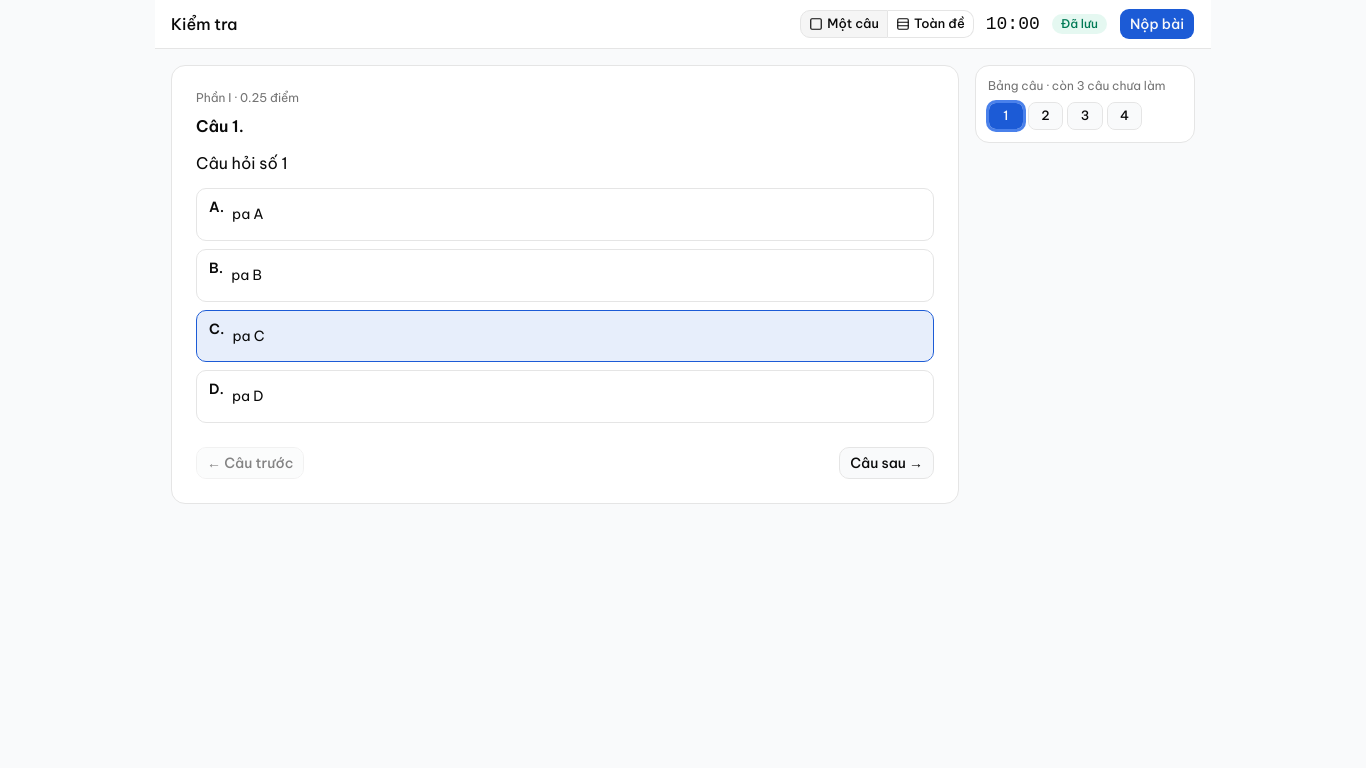
it: exam runner › answers any question of the whole paper and the navigator follows (AC-03)
This screenshot has width=1366, height=768.
Click the radio button labelled "Toàn đề". click: point(931, 24)
box: [888,10,974,38]
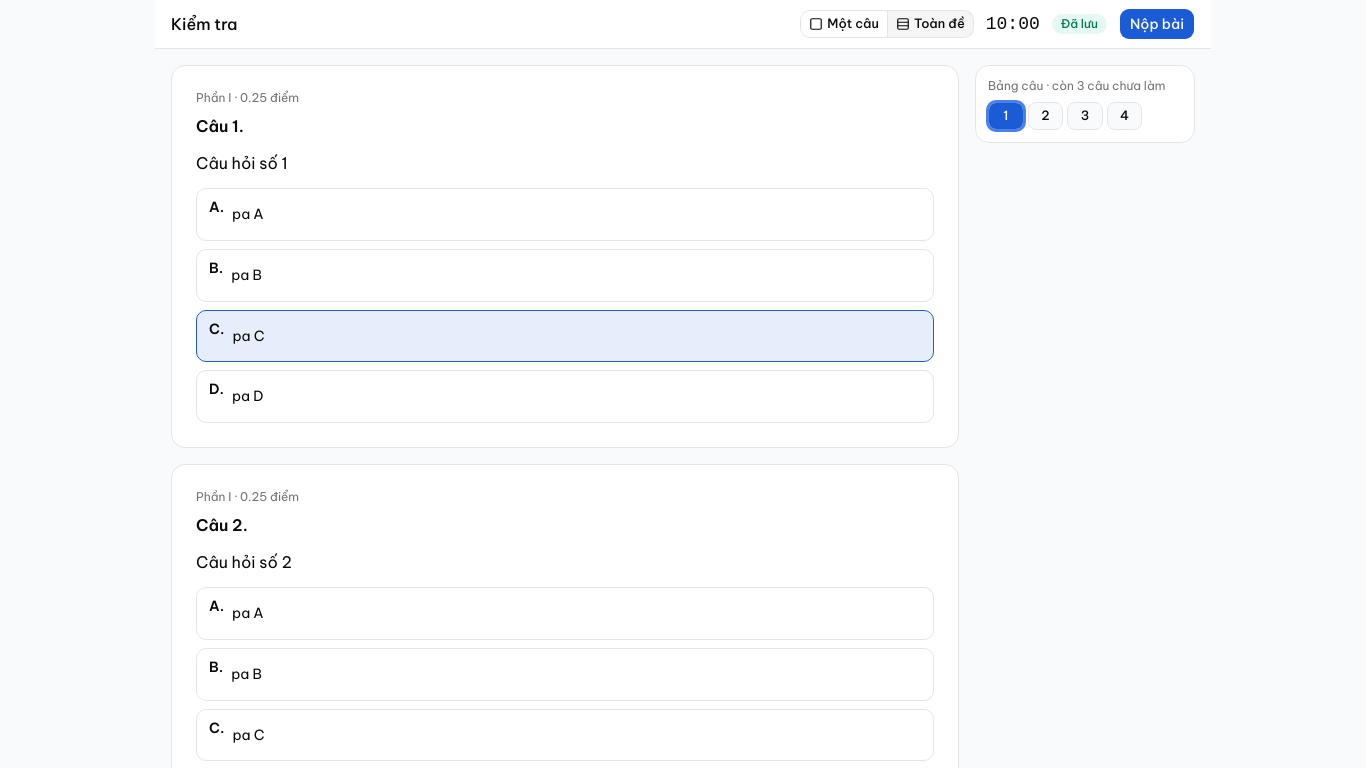
Click the button with test id "option-B". click: point(247, 674)
box: [196,648,934,701]
Wait 600 ms
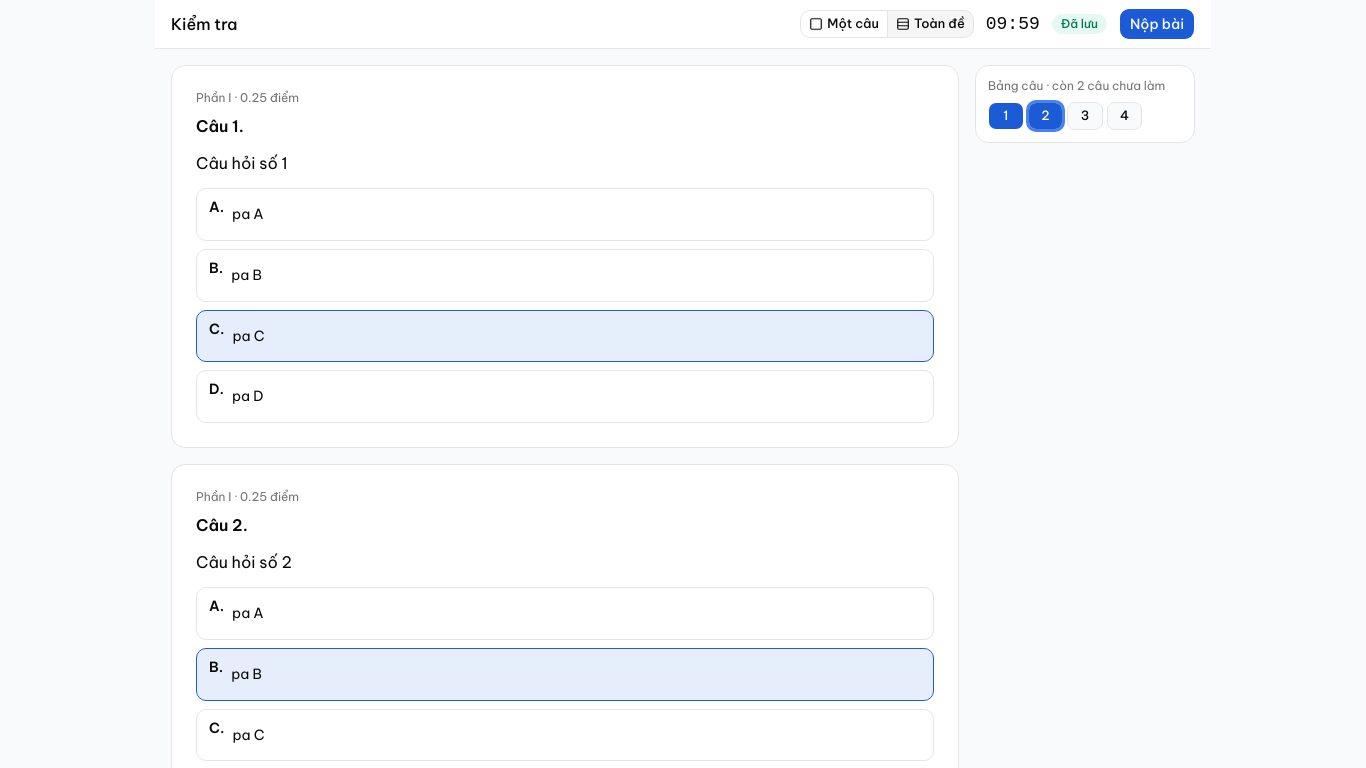
Expected: the icon "Đã lưu" is shown, [1052,14,1107,34]
Expected: the text "Bảng câu · còn 2 câu chưa làm" is shown, [988,78,1182,94]
// a navigator click still moves the current question, and on the paper it brings that card up
Click the button named "Câu 4". click: point(1125, 116)
box: [1107,102,1142,130]
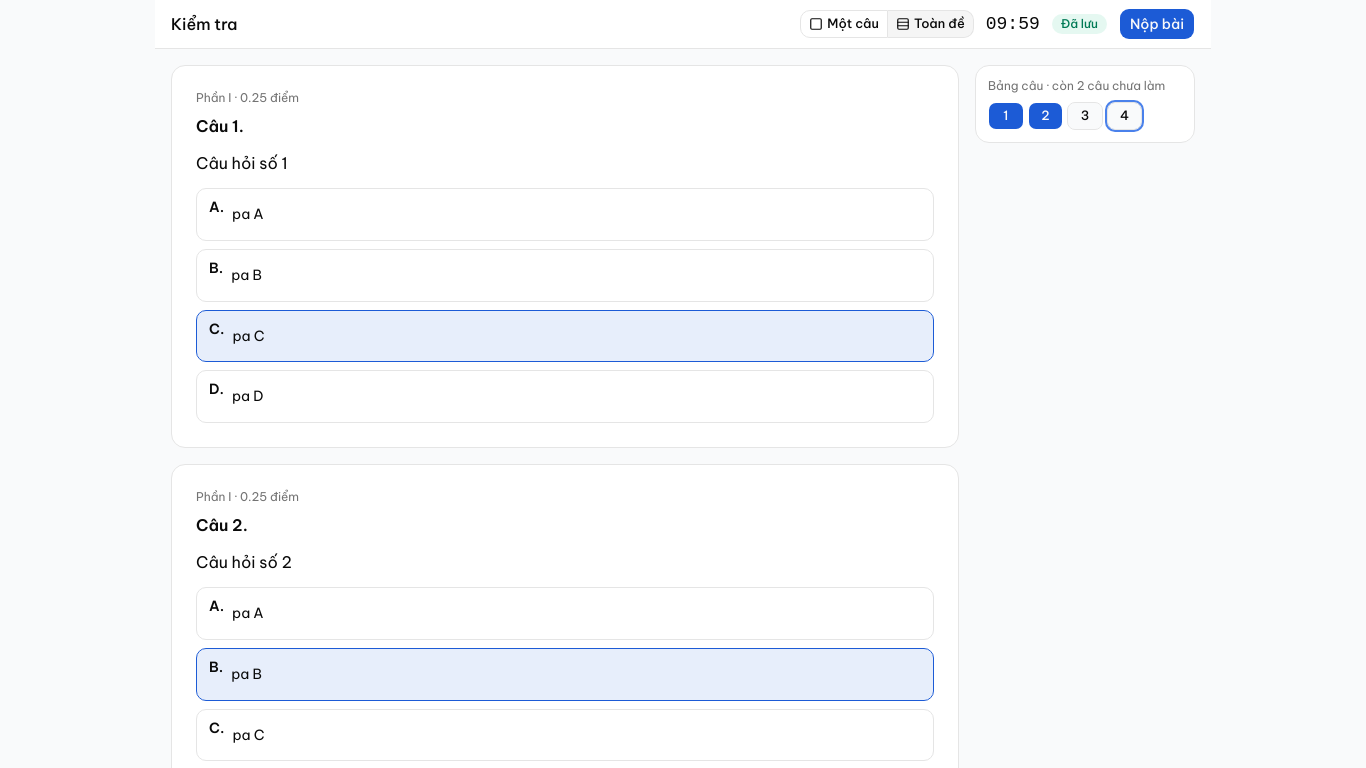
Click the radio button labelled "Một câu". click: point(844, 24)
box: [800,10,888,38]
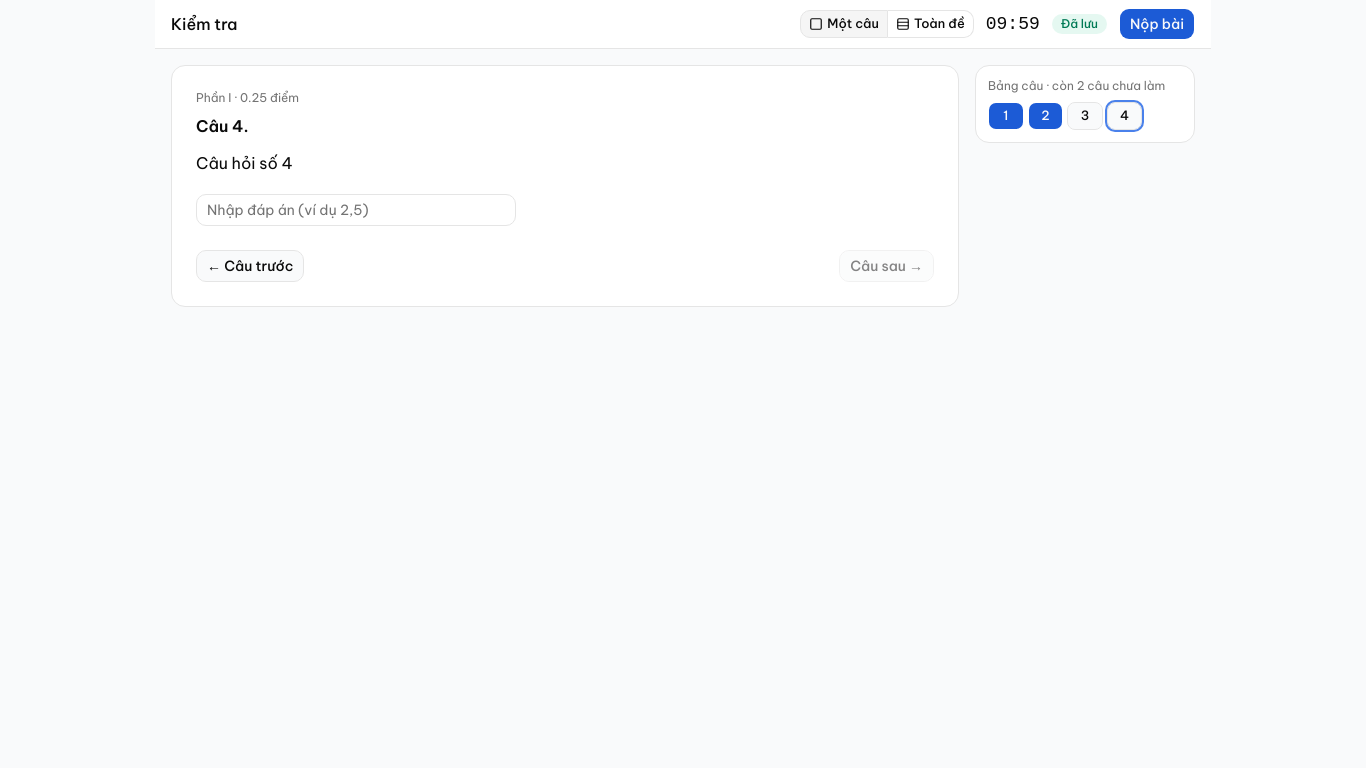
Expected: the element with test id "exam-question" shows "Câu hỏi số 4", [196,153,293,173]
